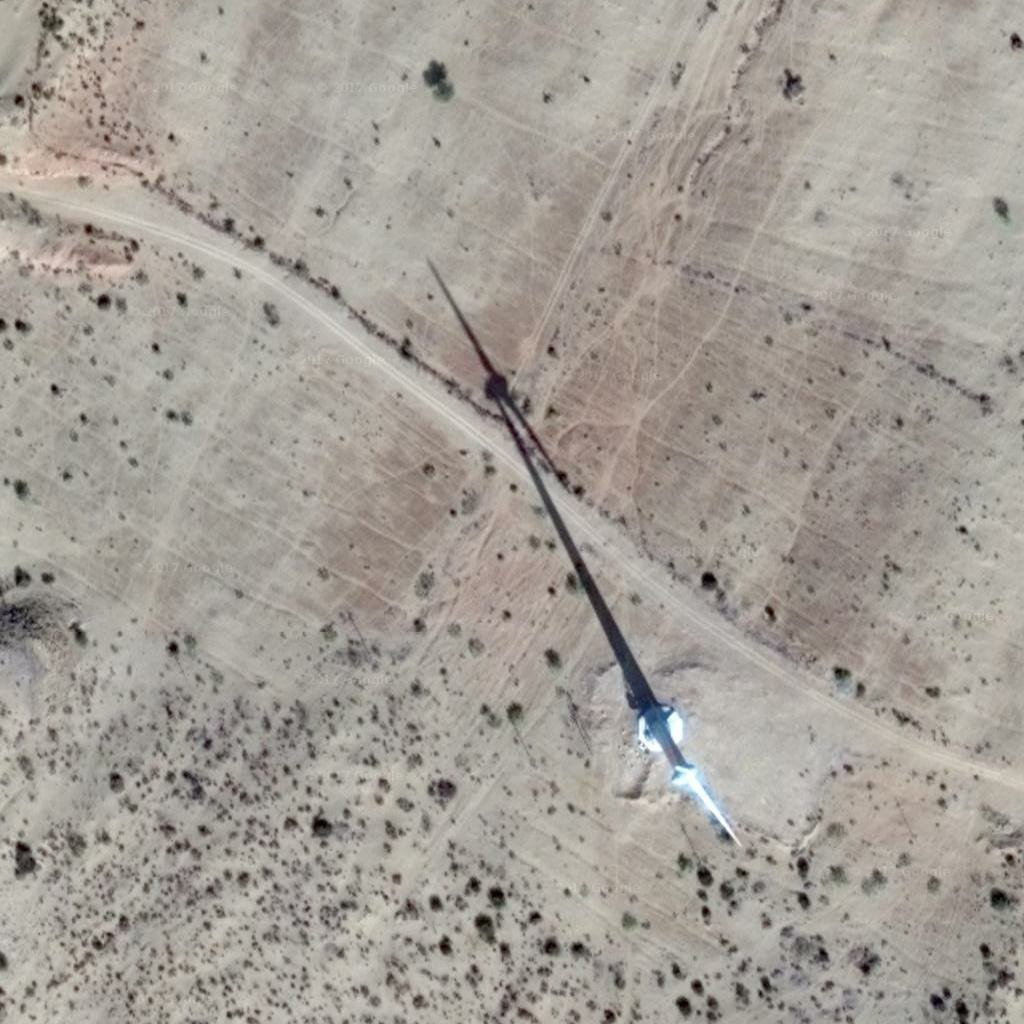Windmill: (419, 261, 654, 683)
